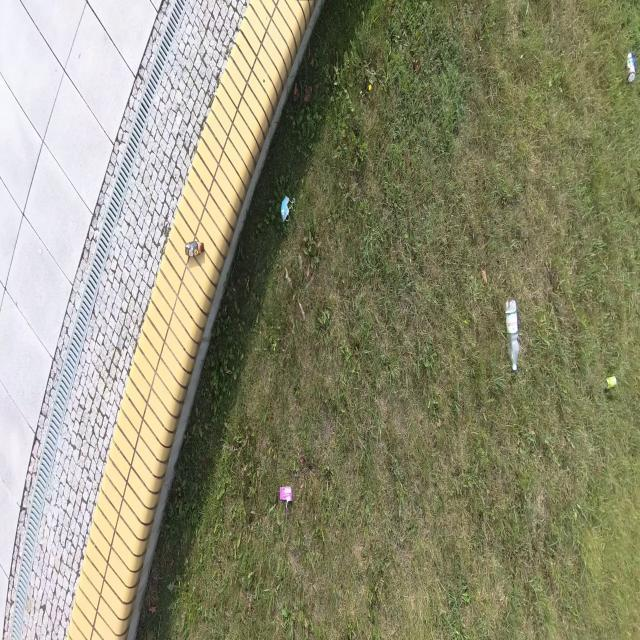rubbish: (505, 298, 519, 369), (185, 240, 204, 256), (627, 50, 635, 81), (280, 196, 289, 222), (280, 485, 292, 500), (606, 373, 617, 389)
